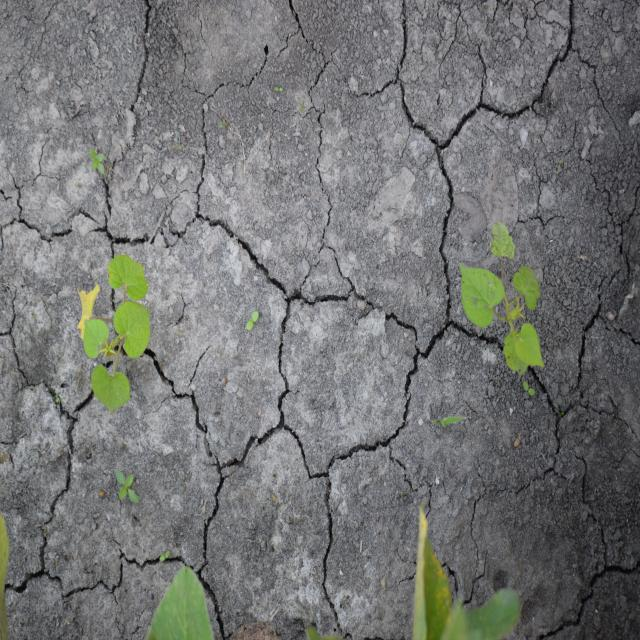MorningGlory: (457, 219, 546, 377), (76, 252, 152, 417)
